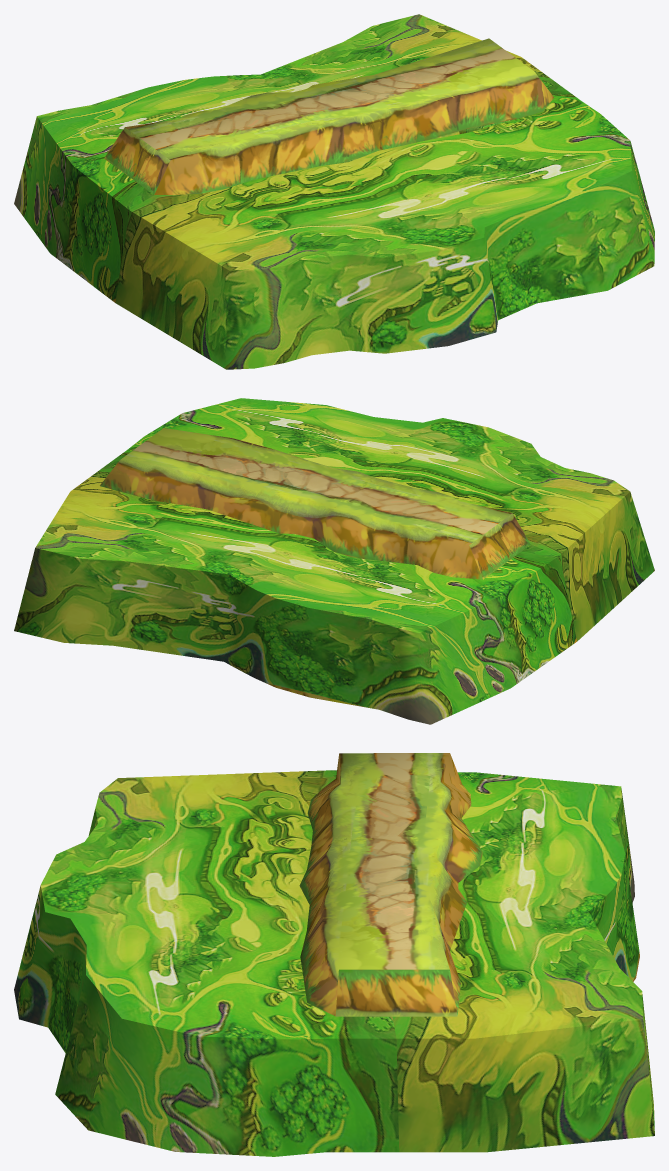
Rendered from map_plain_road16.FBX.
3 renders of one model, top to bottom at view 1: azimuth 30°, elevation 25°; view 2: azimuth 150°, elevation 25°; view 3: azimuth 270°, elevation 25°, orthographic. The views are drawn at different scales.
Parts seen in each view (by area): view 1: map_plain_road16; view 2: map_plain_road16; view 3: map_plain_road16.
Boxes of the visible parts, <box> form: map_plain_road16: <box>14,14,654,369</box>; map_plain_road16: <box>14,398,654,724</box>; map_plain_road16: <box>14,753,654,1156</box>.
Bounding box in the file's own units: 16.45 × 15.38 × 3.98.
